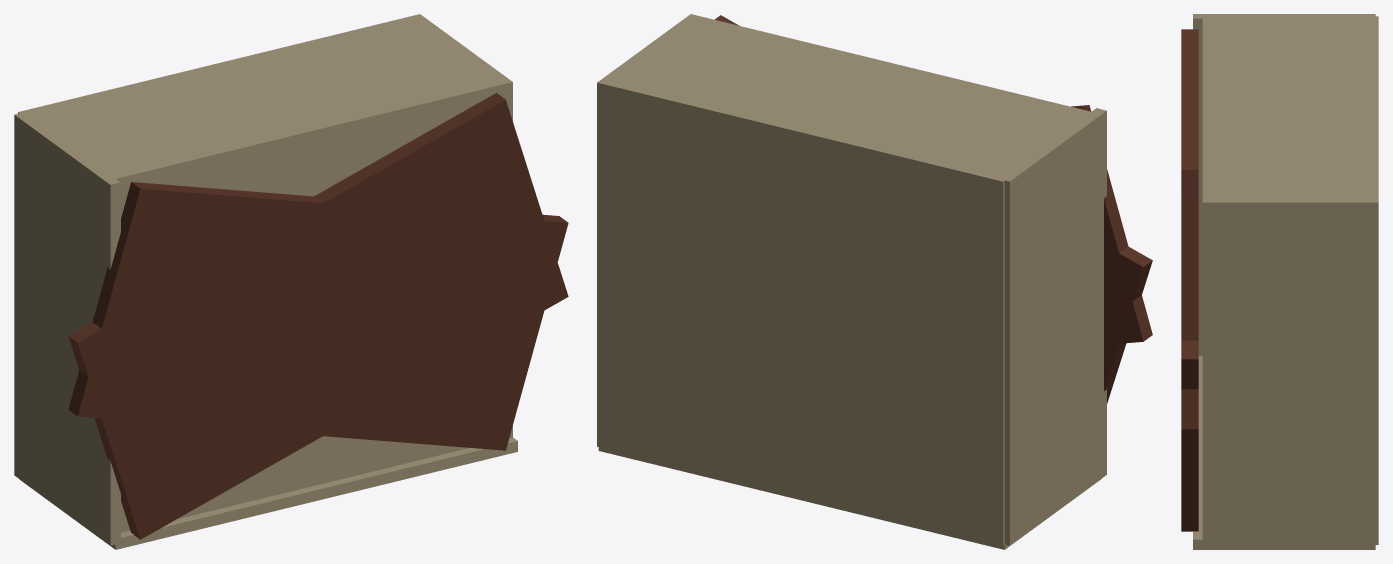
The model's file is intact_village_house.obj.
The picture shows the model from 3 angles, left to right: view 1: azimuth 30°, elevation 25°; view 2: azimuth 150°, elevation 25°; view 3: azimuth 270°, elevation 25°; orthographic projection. The views are drawn at different scales.
Bounding box in the file's own units: 8.55 × 6.16 × 3.14.
